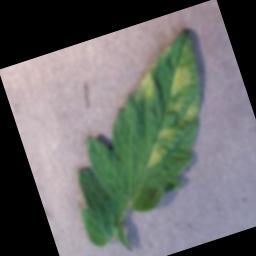Leaf_Mold: (159, 61, 206, 129), (135, 126, 184, 170), (132, 68, 164, 105)
